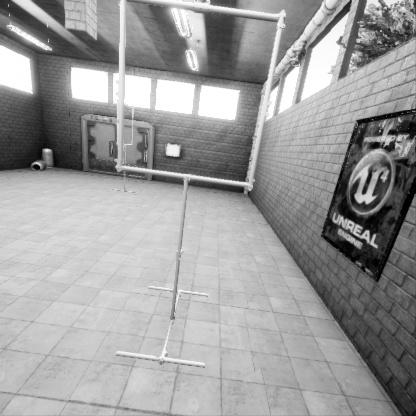gate: (120, 232, 303, 416), (116, 272, 133, 318)
